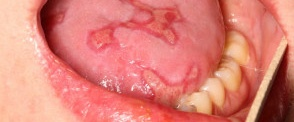SJS-TEN: (9, 0, 294, 122)
